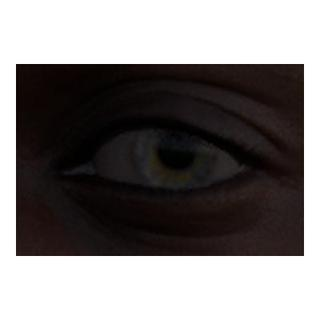pupil: (159, 133, 194, 168)
